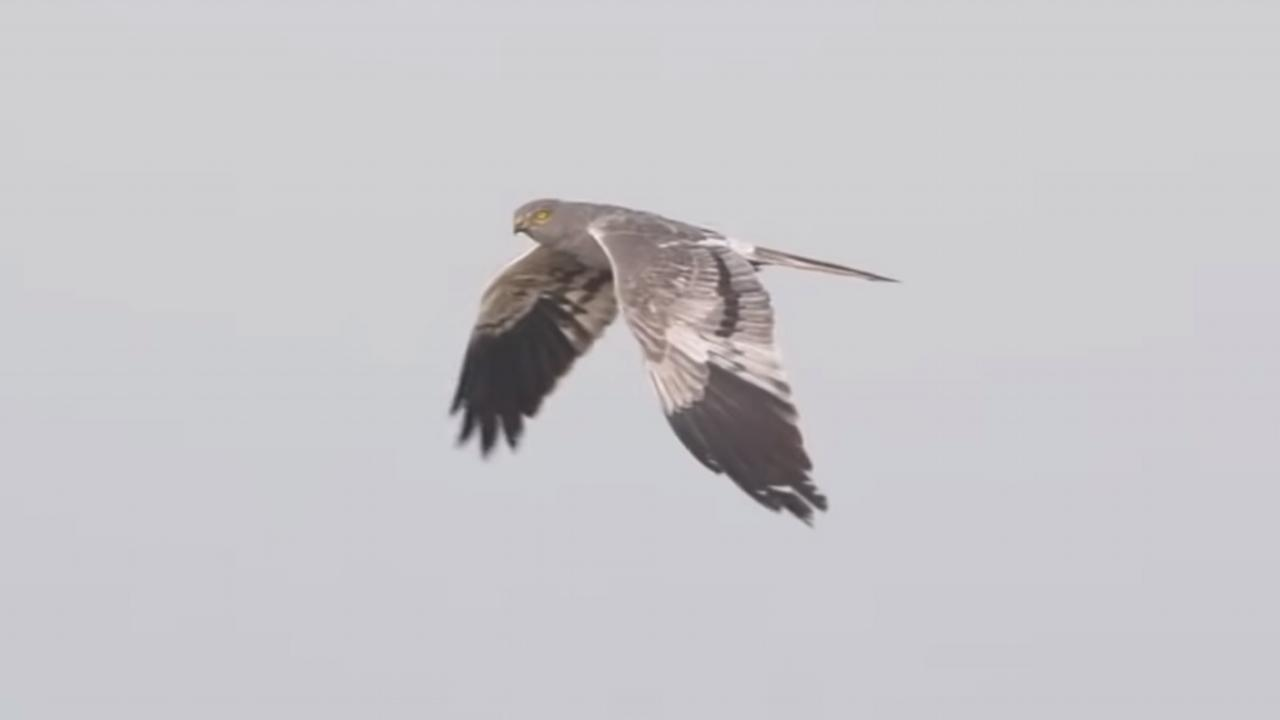Bird: (437, 190, 914, 526)
